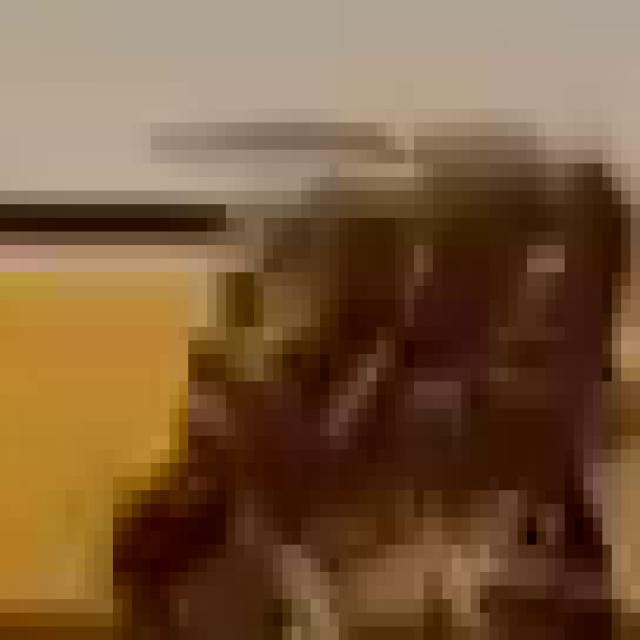honeybee: (132, 81, 640, 640)
